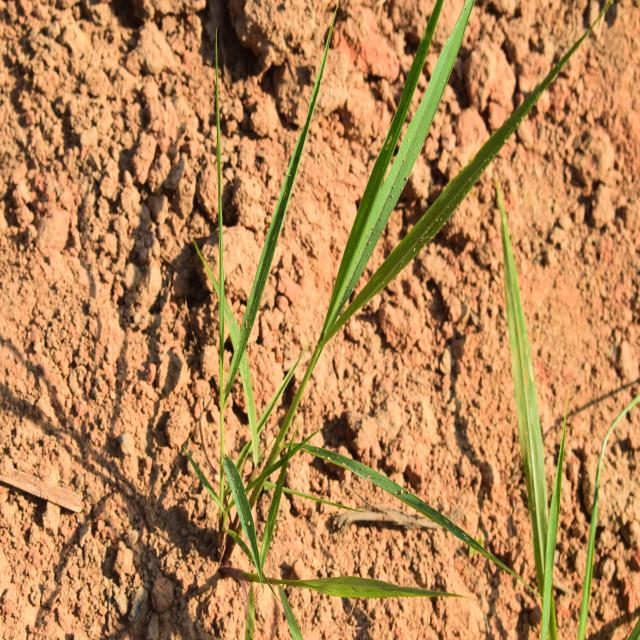green_foxtail: (203, 15, 492, 567)
